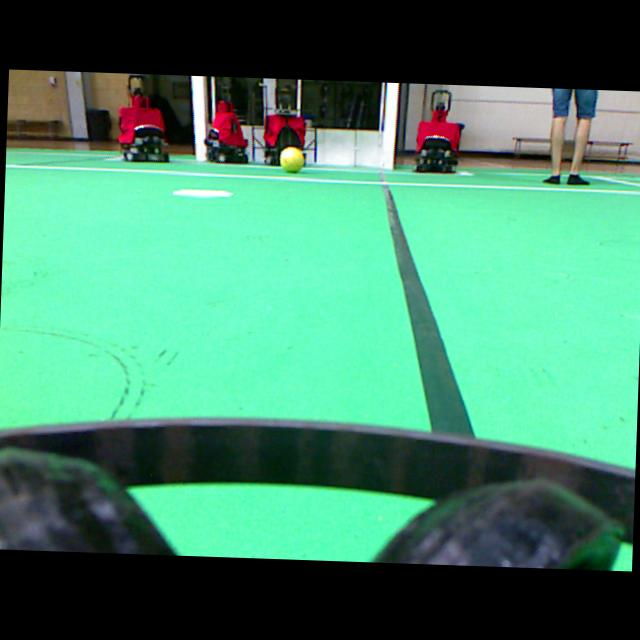ball: (279, 147, 303, 172)
goal: (380, 82, 397, 168), (190, 75, 206, 161)
